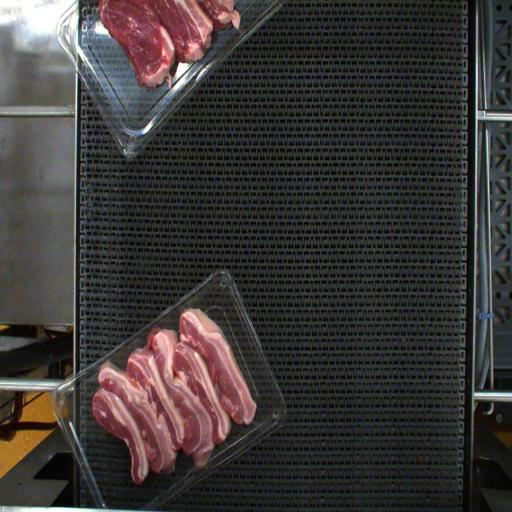packaging-error: (173, 294, 196, 314), (94, 352, 116, 368)
